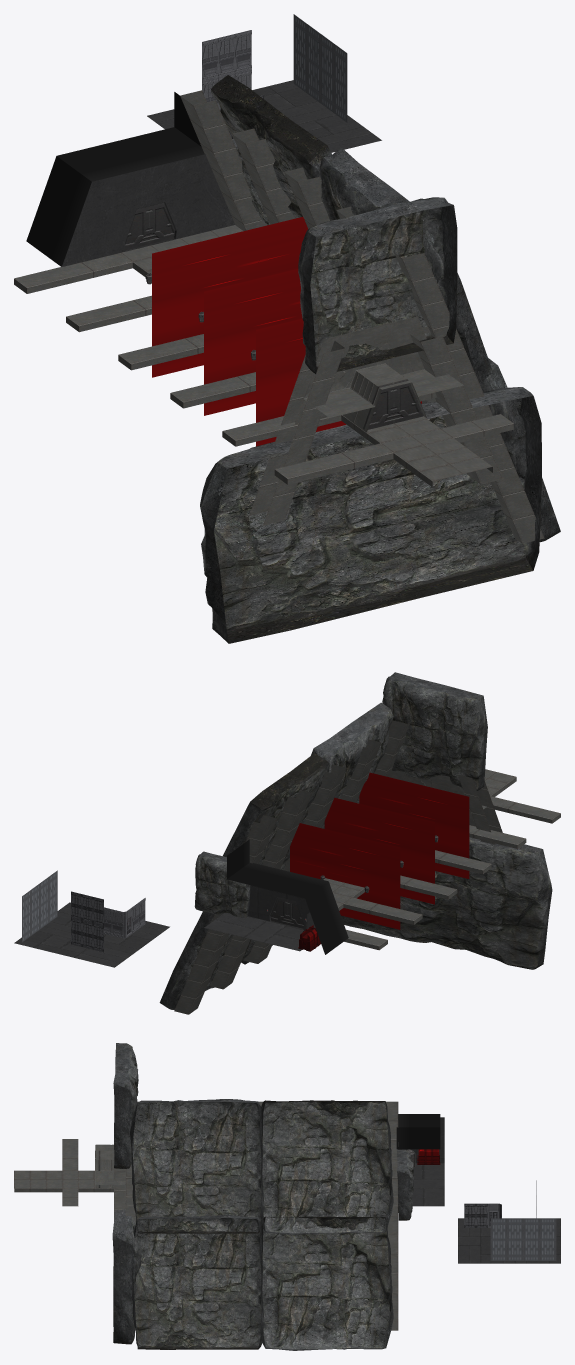
The model's file is env_man_laserhall_pre.glb.
3 views of the same model, one above another, from view 1: azimuth 30°, elevation 25°; view 2: azimuth 150°, elevation 25°; view 3: azimuth 270°, elevation 25° (orthographic). The views are drawn at different scales.
Visible parts, largest first — view 1: man_remnant_facility_rock_wall_01 (3), vfx_laserWall_R (×3), man_laser_hall_entrance_01a, man_remnant_facility_rock_wall_01 (2), man_remnant_facility_rock_wall_01 (1) (×3), man_laser_hall_pillar_01a (2) (×4), man_laser_hall_floor, man_laser_hall_pillar_01a (3) (×2), man_laser_hall_doorway_01b, man_laser_hall_floor (2), man_remnant_facility_floor_01c, vfx_laserWall_L (+9 smaller); view 2: man_remnant_facility_rock_wall_01 (3), vfx_laserWall_R (×3), man_remnant_facility_rock_wall_01 (1) (×3), man_remnant_facility_rock_wall_01 (2), vfx_laserWall_L (×3), man_laser_hall_pillar_01a (2) (×6), man_laser_hall_entrance_01a, man_remnant_facility_floor_01c, man_laser_hall_floor, man_laser_hall_floor (2), man_remnant_facility_rock_wall_01, man_laser_hall_entrance_01b (+6 smaller); view 3: man_remnant_facility_rock_wall_01 (1) (×4), man_remnant_facility_rock_wall_01, man_remnant_facility_rock_wall_01 (3), man_laser_hall_floor, man_remnant_facility_rock_wall_01 (2), man_laser_hall_entrance_01a, man_remnant_facility_floor_01c, man_laser_hall_entrance_01b, man_laser_hall_pillar_01a (2) (×2), man_laser_hall_pillar_01a (5), man_laser_hall_doorway_01b, emp_wall_04a_mesh (+4 smaller).
Boxes of the visible parts, bbox=[...] form: man_remnant_facility_rock_wall_01 (3): bbox=[200, 387, 541, 643]; vfx_laserWall_R (×3): bbox=[152, 233, 338, 446]; man_laser_hall_entrance_01a: bbox=[26, 92, 234, 266]; man_remnant_facility_rock_wall_01 (2): bbox=[298, 197, 457, 374]; man_remnant_facility_rock_wall_01 (1) (×3): bbox=[211, 75, 560, 542]; man_laser_hall_pillar_01a (2) (×4): bbox=[180, 90, 484, 399]; man_laser_hall_floor: bbox=[222, 392, 513, 487]; man_laser_hall_pillar_01a (3) (×2): bbox=[249, 326, 502, 525]; man_laser_hall_doorway_01b: bbox=[294, 316, 463, 432]; man_laser_hall_floor (2): bbox=[14, 225, 243, 332]; man_remnant_facility_floor_01c: bbox=[147, 80, 381, 152]; vfx_laserWall_L: bbox=[235, 217, 307, 283]; man_remnant_facility_rock_wall_01 (3): bbox=[341, 837, 552, 969]; vfx_laserWall_R (×3): bbox=[345, 783, 469, 929]; man_remnant_facility_rock_wall_01 (1) (×3): bbox=[194, 702, 393, 917]; man_remnant_facility_rock_wall_01 (2): bbox=[382, 672, 487, 790]; vfx_laserWall_L (×3): bbox=[290, 772, 414, 916]; man_laser_hall_pillar_01a (2) (×6): bbox=[214, 720, 410, 963]; man_laser_hall_entrance_01a: bbox=[227, 839, 348, 954]; man_remnant_facility_floor_01c: bbox=[14, 902, 169, 967]; man_laser_hall_floor: bbox=[469, 769, 560, 848]; man_laser_hall_floor (2): bbox=[323, 878, 422, 950]; man_remnant_facility_rock_wall_01: bbox=[159, 862, 285, 1009]; man_laser_hall_entrance_01b: bbox=[204, 912, 304, 951]; man_remnant_facility_rock_wall_01 (1) (×4): bbox=[130, 1099, 413, 1349]; man_remnant_facility_rock_wall_01: bbox=[260, 1216, 393, 1350]; man_remnant_facility_rock_wall_01 (3): bbox=[112, 1209, 141, 1344]; man_laser_hall_floor: bbox=[14, 1139, 133, 1206]; man_remnant_facility_rock_wall_01 (2): bbox=[113, 1043, 138, 1168]; man_laser_hall_entrance_01a: bbox=[396, 1114, 444, 1163]; man_remnant_facility_floor_01c: bbox=[458, 1218, 560, 1263]; man_laser_hall_entrance_01b: bbox=[412, 1163, 444, 1206]; man_laser_hall_pillar_01a (2) (×2): bbox=[125, 1101, 398, 1216]; man_laser_hall_pillar_01a (5): bbox=[381, 1216, 398, 1330]; man_laser_hall_doorway_01b: bbox=[95, 1144, 125, 1188]; emp_wall_04a_mesh: bbox=[507, 1218, 523, 1260].
Bounding box in the file's own units: 30.11 × 24.67 × 51.35.
15 materials, 15 textured.
